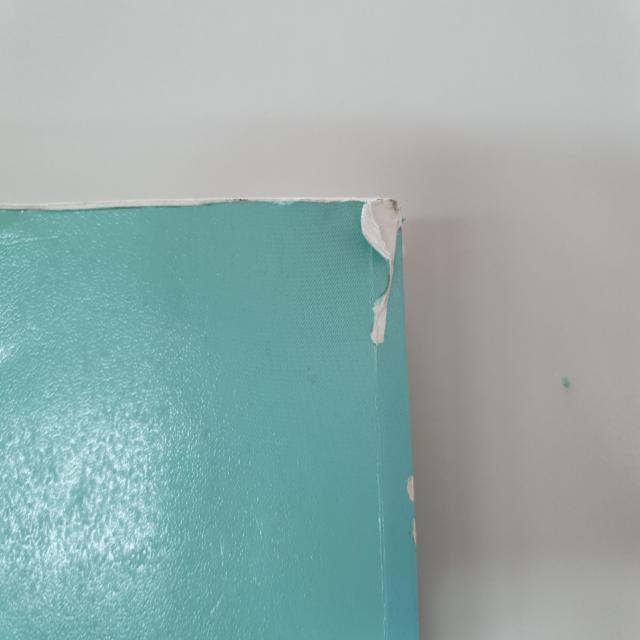Ripped: (323, 185, 412, 354)
Wornout: (0, 190, 324, 224), (403, 466, 423, 558)
